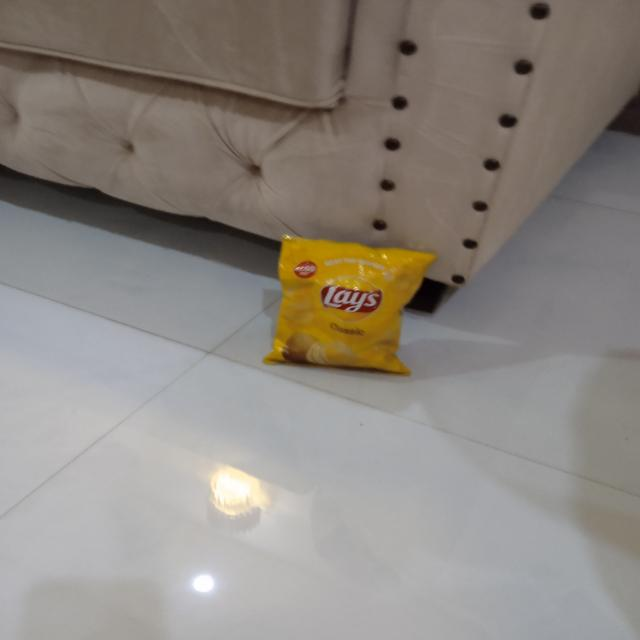Plastic: (281, 242, 427, 372)
